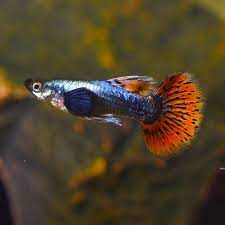guppy: (18, 67, 209, 161)
